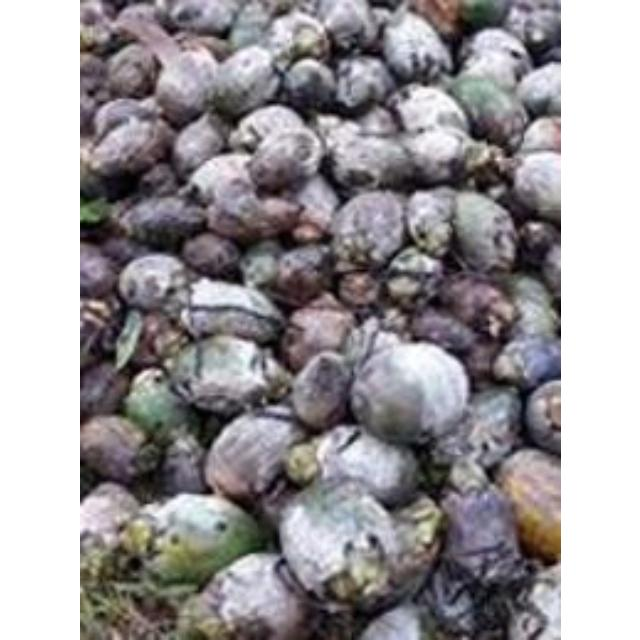damaged: (277, 476, 405, 604), (136, 493, 264, 589), (195, 554, 317, 640), (352, 343, 470, 431), (205, 409, 301, 505), (170, 336, 282, 416), (180, 278, 282, 342), (328, 188, 407, 268), (445, 190, 517, 276), (447, 76, 528, 148), (326, 130, 412, 194), (288, 350, 352, 430), (378, 10, 450, 80), (209, 44, 281, 114), (152, 46, 218, 122), (281, 304, 353, 372), (247, 125, 321, 191), (80, 413, 150, 482), (117, 252, 187, 312), (399, 126, 468, 186), (510, 150, 560, 222), (188, 153, 250, 207)
